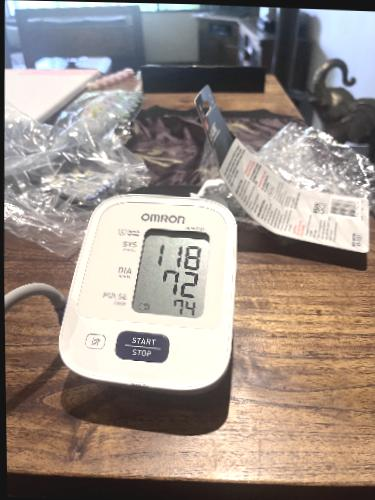bpm: (128, 222, 212, 323)
